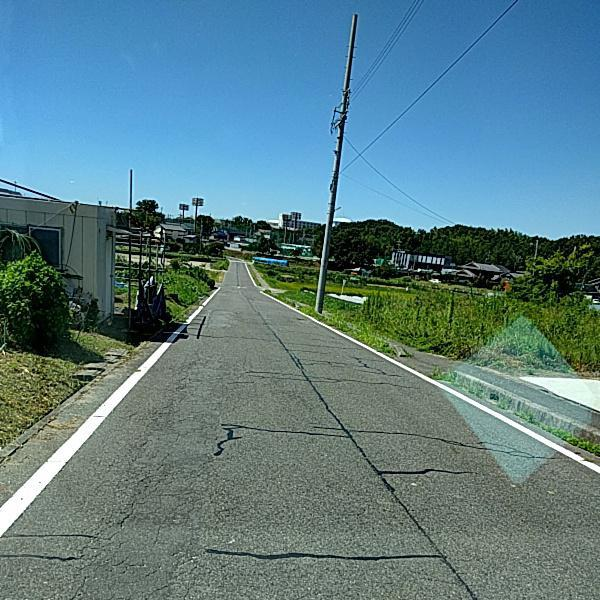D10: (322, 416, 558, 460), (196, 536, 449, 571), (208, 425, 351, 458), (2, 544, 89, 563), (2, 527, 109, 542), (378, 465, 471, 478)
